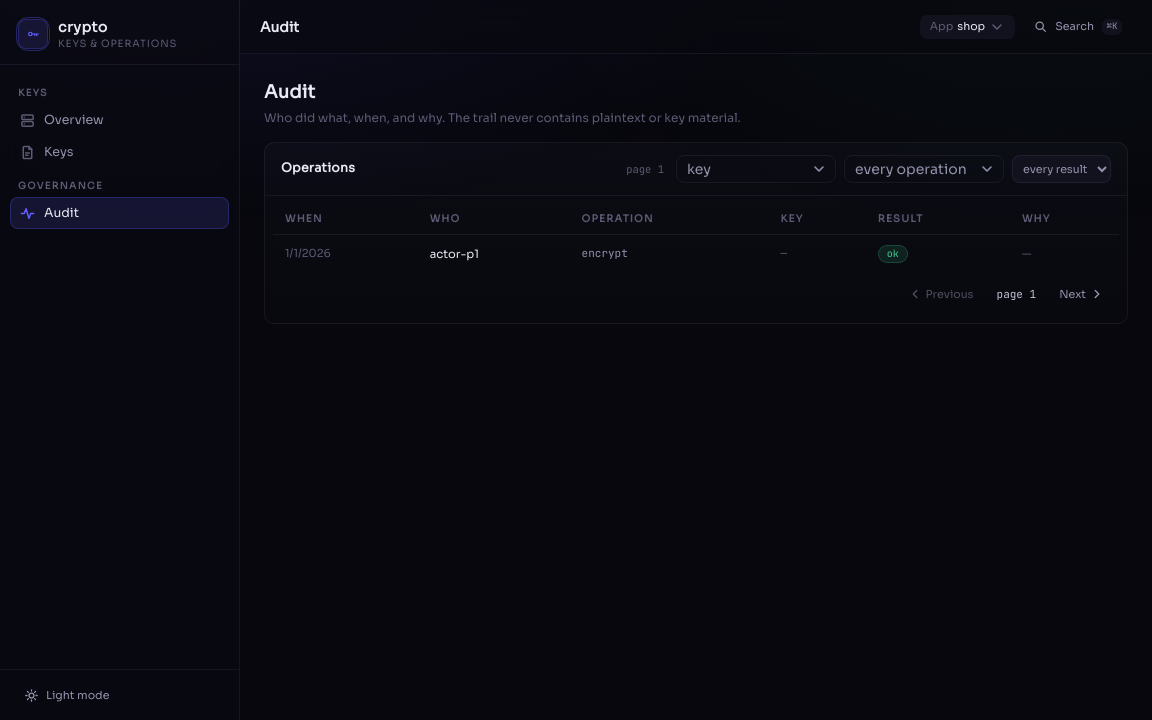
it: the crypto console: view state in the URL › the audit walks by cursor: next pushes `after`, back pops it, a filter resets it
Later steps or results of the test are not shown.
Expected: the text "actor-p1" is shown, [430,247,479,261]
Click the button with aria-label "Next page" at (1082, 294), box [1048,281,1115,307]
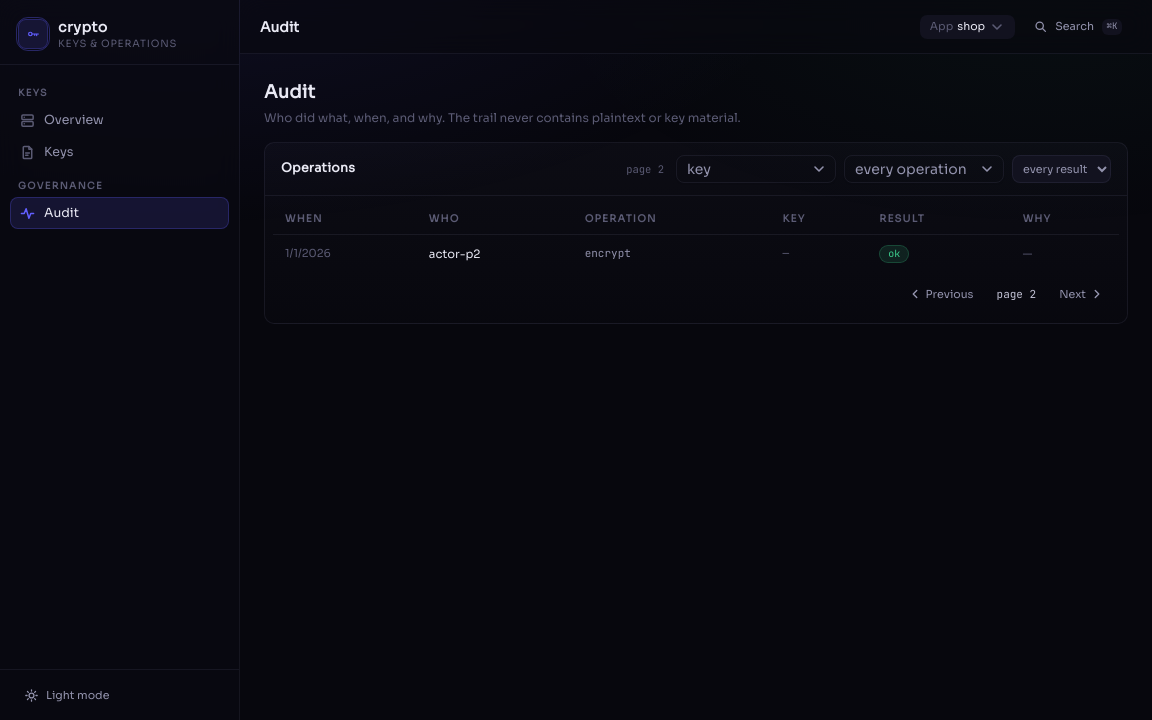
Now the text "actor-p2" is shown, box [429,247,480,261]
Click the button with aria-label "Next page" at (1082, 294), box [1048,281,1115,307]
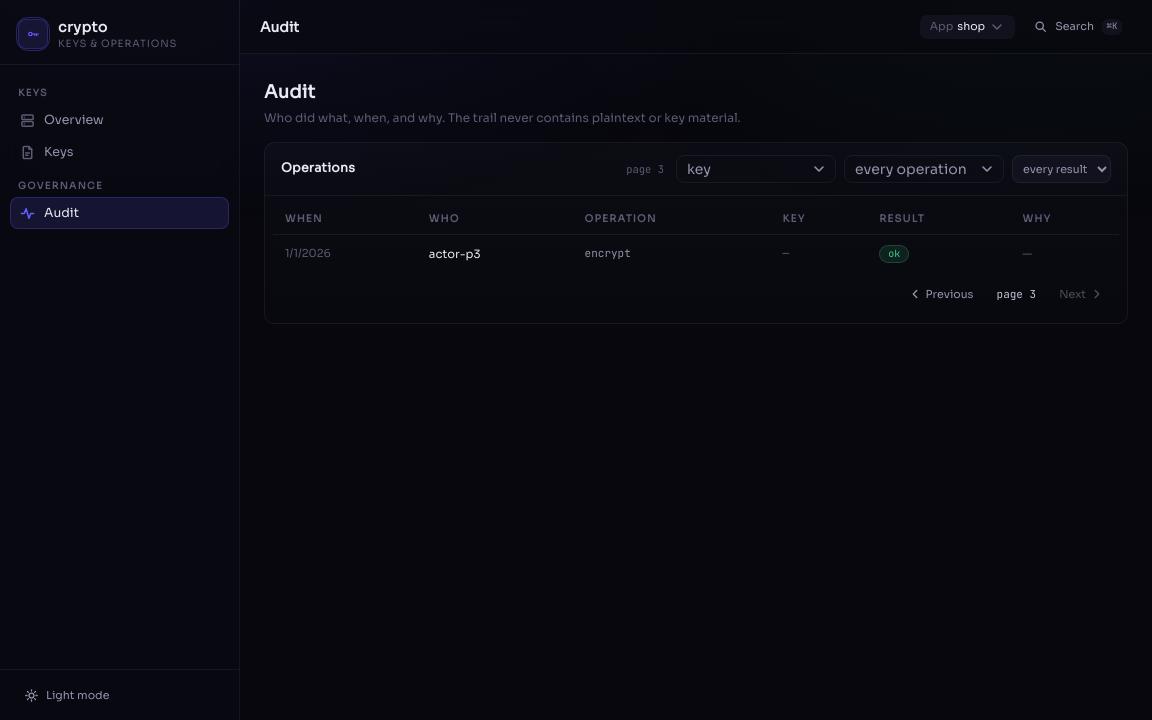
Now the text "actor-p3" is shown, box [429,247,480,261]
Now the button with aria-label "Next page" is disabled, box [1048,281,1115,307]
